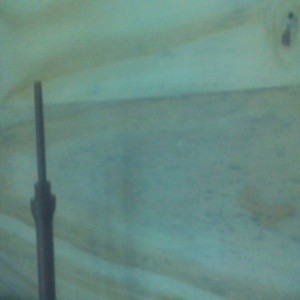obeng: (28, 80, 57, 300)
